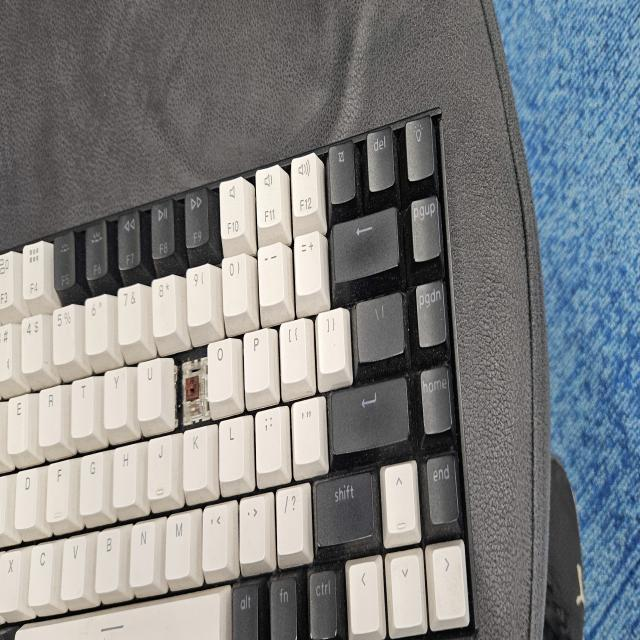C: (178, 361, 202, 413)
